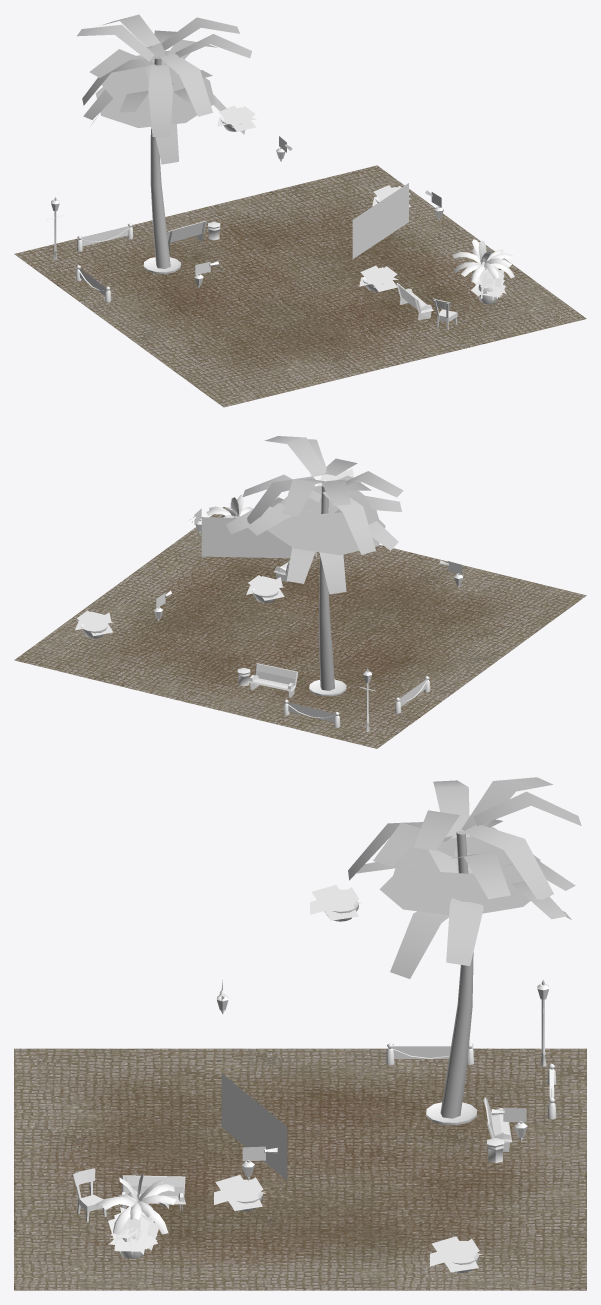
File: propsonly_5.gltf
3 renders of one model, top to bottom at view 1: azimuth 30°, elevation 25°; view 2: azimuth 150°, elevation 25°; view 3: azimuth 270°, elevation 25°, orthographic. The views are drawn at different scales.
Visible parts, largest first — view 1: ground.001, prop_tree5, prop_lights5, prop_treepot_tree5, prop_pot_flower5.002, prop_pot_flower5.001, prop_treepot_bush5, prop_chain_fence5, prop_bench5, prop_bench5.001; view 2: ground.001, prop_tree5, prop_lights5, prop_bench5.001, prop_pot_flower5.001, prop_pot_flower5, prop_chain_fence5, prop_treepot_tree5, prop_chain_fence5.001; view 3: ground.001, prop_tree5, prop_lights5, prop_treepot_tree5, prop_treepot_bush5, prop_pot_flower5, prop_pot_flower5.002, prop_pot_flower5.001, prop_bench5, prop_chain_fence5.001, prop_chair5, prop_bench5.001 (+1 smaller).
Boxes of the visible parts, <box> form: ground.001: <box>14,165,586,407</box>; prop_tree5: <box>77,14,251,268</box>; prop_lights5: <box>352,183,408,258</box>; prop_treepot_tree5: <box>453,239,514,283</box>; prop_pot_flower5.002: <box>217,105,256,131</box>; prop_pot_flower5.001: <box>359,265,398,291</box>; prop_treepot_bush5: <box>471,267,506,300</box>; prop_chain_fence5: <box>76,223,133,251</box>; prop_bench5: <box>396,283,433,319</box>; prop_bench5.001: <box>167,221,206,250</box>; ground.001: <box>14,507,586,748</box>; prop_tree5: <box>226,436,403,690</box>; prop_lights5: <box>201,517,291,558</box>; prop_bench5.001: <box>248,663,298,698</box>; prop_pot_flower5.001: <box>246,575,284,600</box>; prop_pot_flower5: <box>75,610,113,636</box>; prop_chain_fence5: <box>283,699,340,727</box>; prop_treepot_tree5: <box>206,494,252,517</box>; prop_chain_fence5.001: <box>395,676,430,713</box>; ground.001: <box>14,1048,586,1290</box>; prop_tree5: <box>348,777,581,1118</box>; prop_lights5: <box>221,1073,287,1180</box>; prop_treepot_tree5: <box>95,1172,176,1234</box>; prop_treepot_bush5: <box>108,1207,158,1254</box>; prop_pot_flower5: <box>430,1236,481,1272</box>; prop_pot_flower5.002: <box>310,885,362,920</box>; prop_pot_flower5.001: <box>214,1175,265,1210</box>; prop_bench5: <box>121,1175,185,1213</box>; prop_chain_fence5.001: <box>386,1043,473,1064</box>; prop_chair5: <box>72,1168,106,1221</box>; prop_bench5.001: <box>483,1097,511,1151</box>.
Size of what is drawn, in the model's own units: 3.3 by 2.16 by 3.3.
